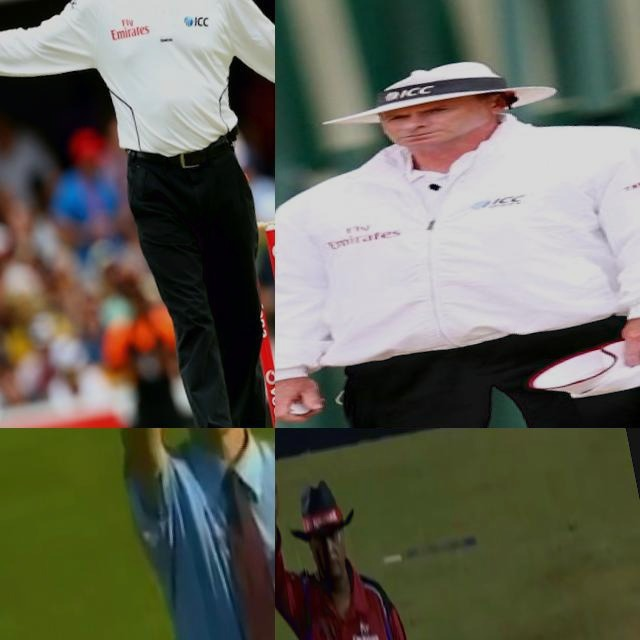No_Action: (275, 5, 640, 428)
No_Ball: (0, 0, 275, 428)
Out: (67, 428, 275, 640), (275, 428, 475, 640)
